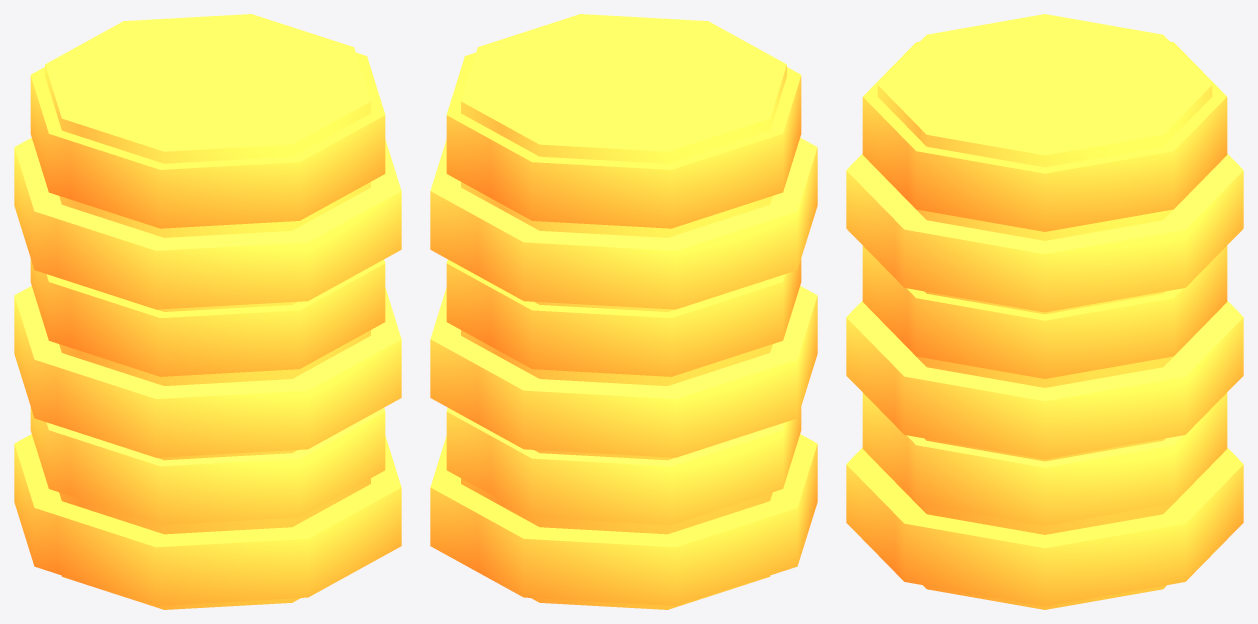
File: gold_grip_003.glb
The picture shows the model from 3 angles, left to right: view 1: azimuth 30°, elevation 25°; view 2: azimuth 150°, elevation 25°; view 3: azimuth 270°, elevation 25°; orthographic projection.
Parts seen in each view (by area): view 1: gold_grip_003; view 2: gold_grip_003; view 3: gold_grip_003.
Part boxes in pixels (bbox=[...]): gold_grip_003: bbox=[14, 14, 401, 609]; gold_grip_003: bbox=[430, 14, 817, 609]; gold_grip_003: bbox=[846, 14, 1243, 609].
Bounding box in the file's own units: 2.38 × 3 × 2.38.
1 material, 1 textured.
